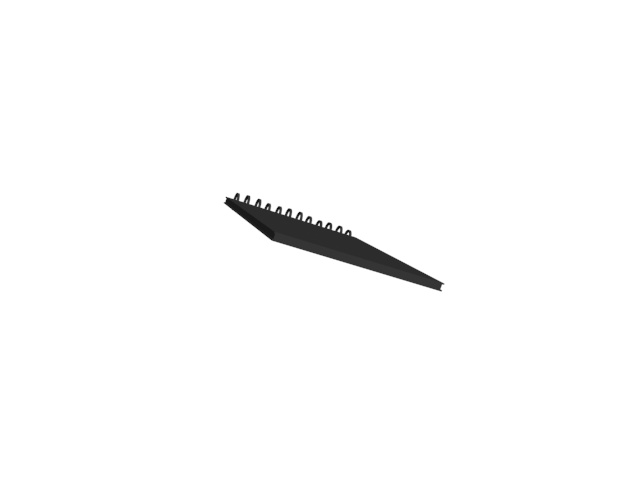paper_notebook: (217, 193, 448, 296)
